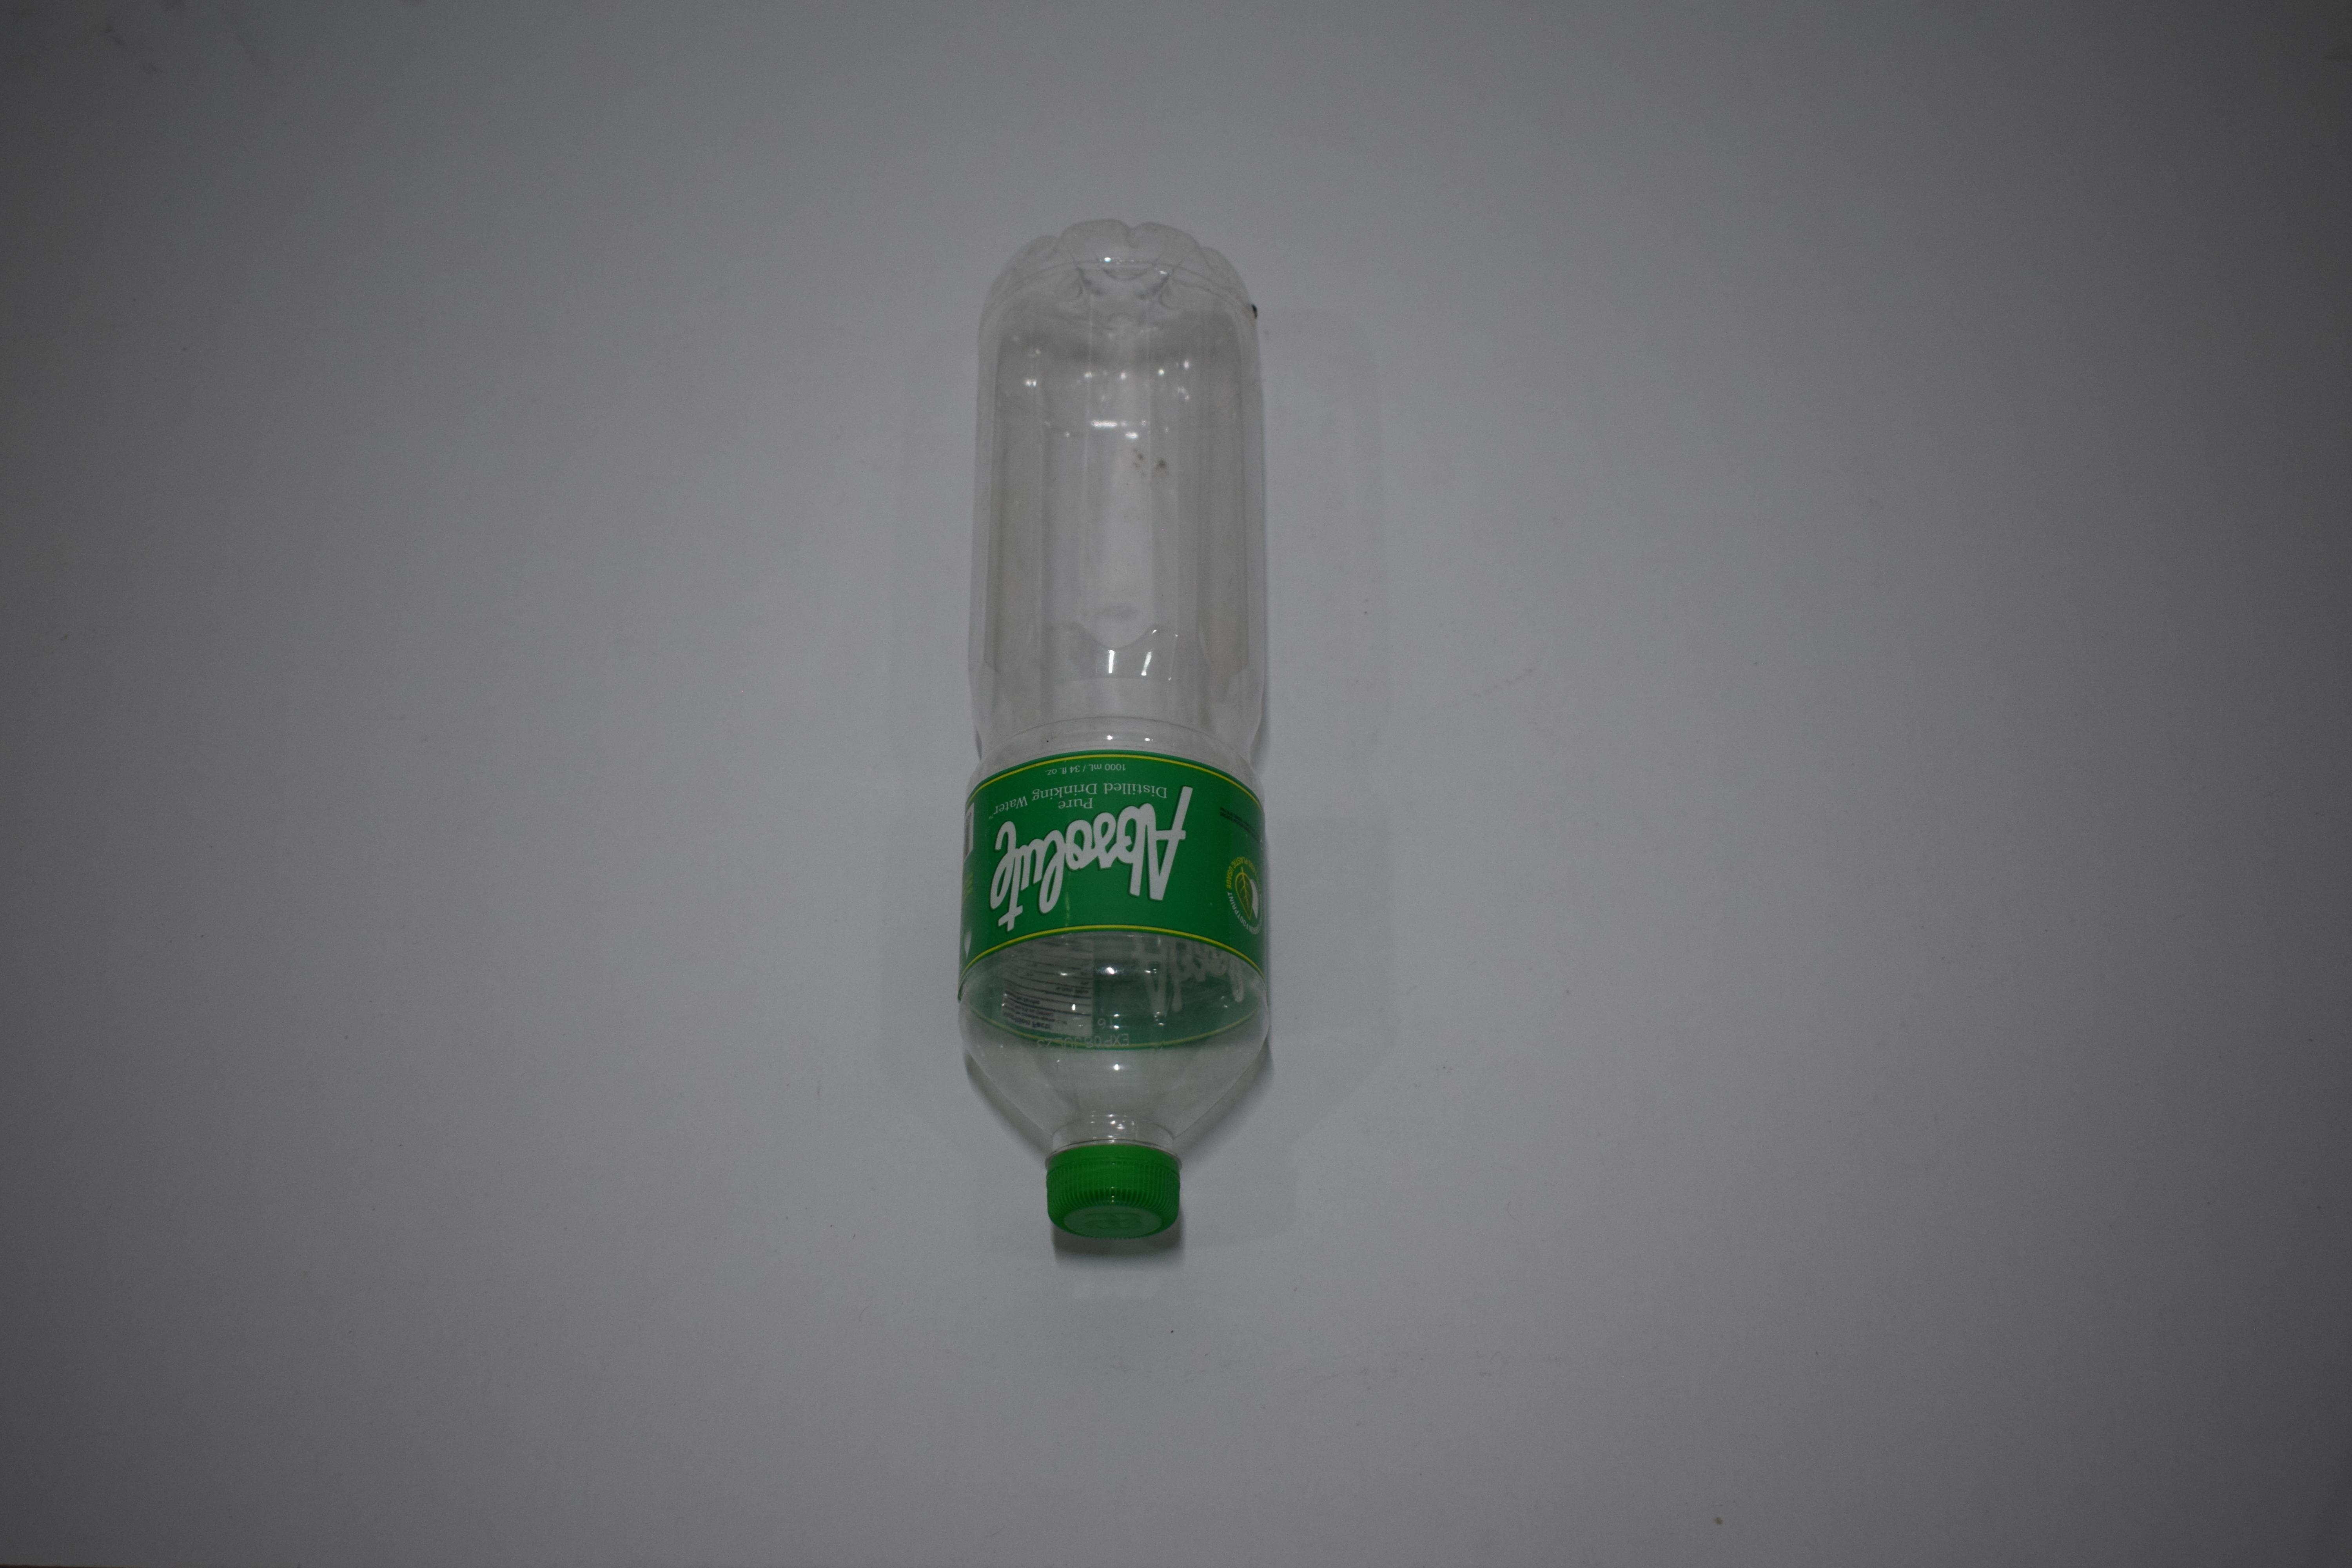bottle: (941, 219, 1270, 1255)
